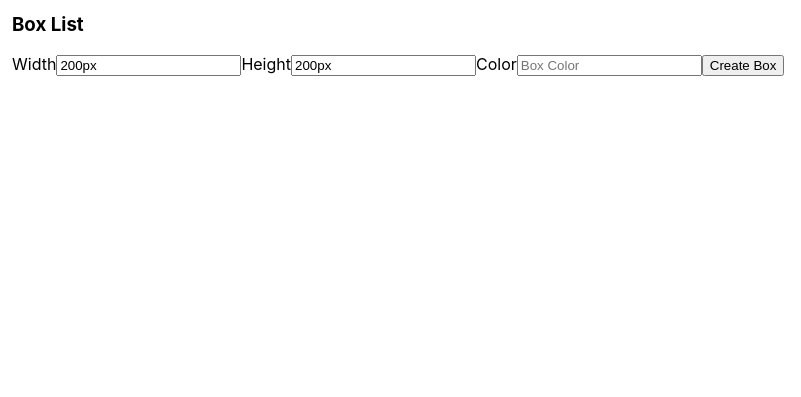
Test: should delete a box
Replace the text in the field labelled "Width" with "300px" at {"x": 149, "y": 66}, box [56, 55, 241, 76]
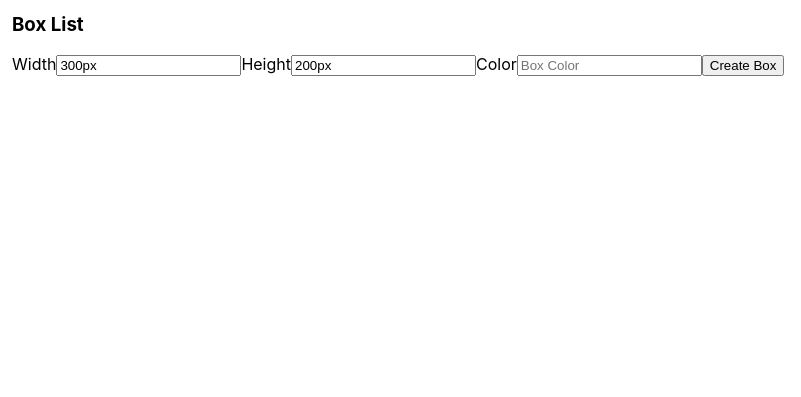
Replace the text in the field labelled "Height" with "300px" at {"x": 384, "y": 66}, box [291, 55, 476, 76]
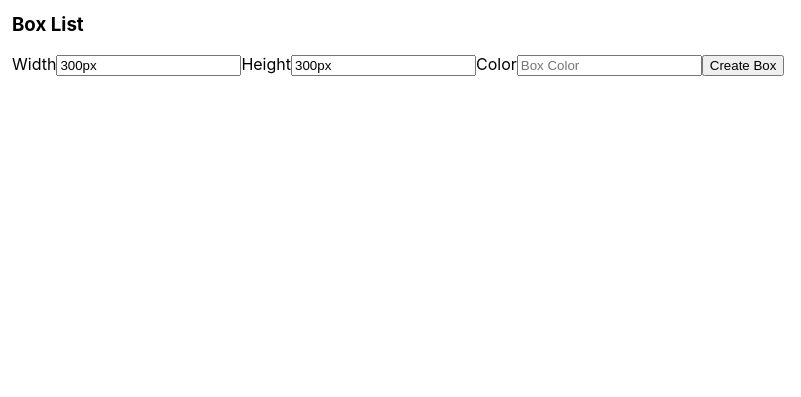
Type "blue" into the field labelled "Color".
click(609, 66); type("blue")  # box [517, 55, 702, 76]
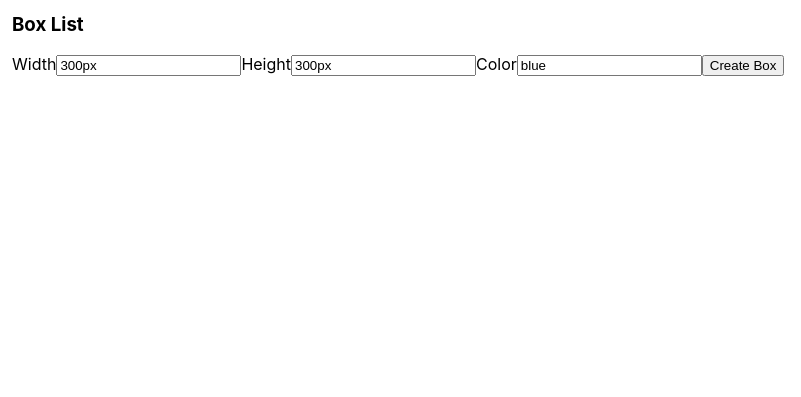
Click the button "Create Box".
click(743, 66)  # box [702, 55, 784, 76]
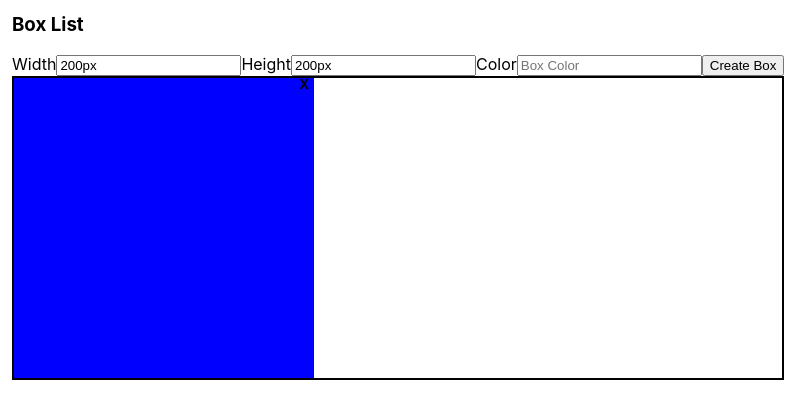
expect the element with test id "BoxList" is shown: met
expect the element with test id "Box0" is shown: met, box [14, 78, 314, 378]
Click the heading "X".
click(304, 84)  # box [299, 76, 309, 92]
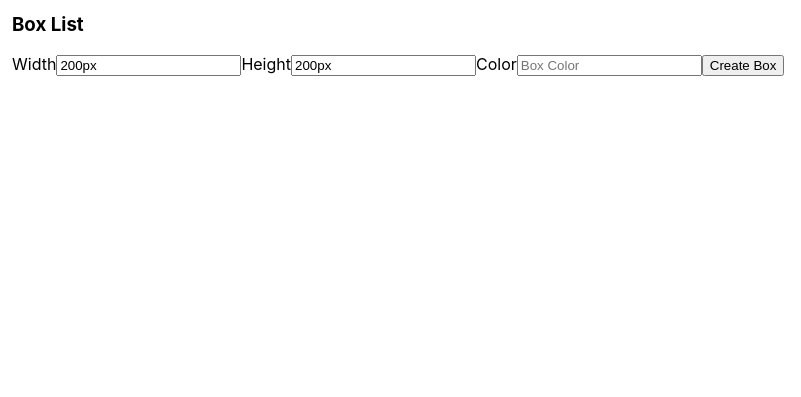
expect the element with test id "BoxList" is gone: met
expect the element with test id "Box0" is gone: met
